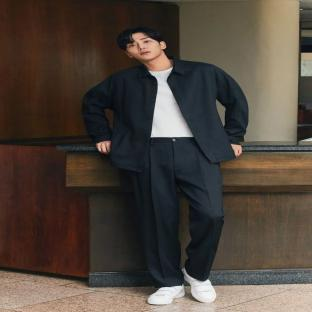Human: (82, 27, 247, 304)
